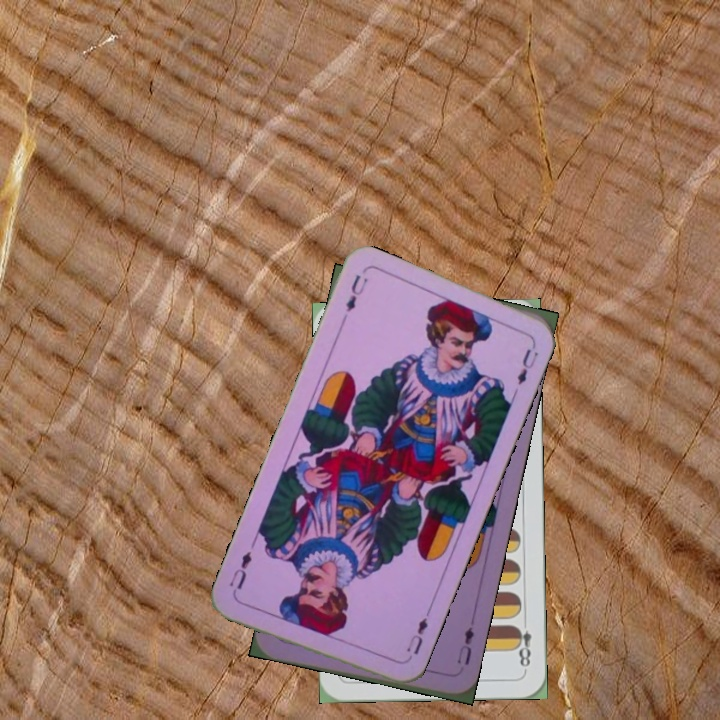E8: (511, 622, 534, 673)
EU: (402, 608, 432, 658), (341, 270, 370, 315), (453, 622, 477, 668)
